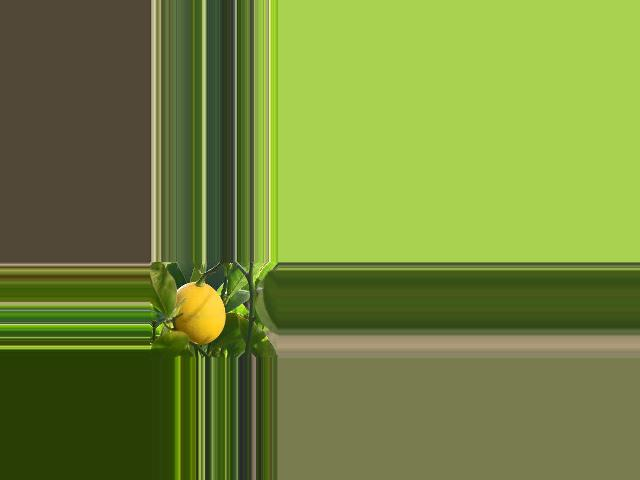lemon: (165, 276, 229, 342)
